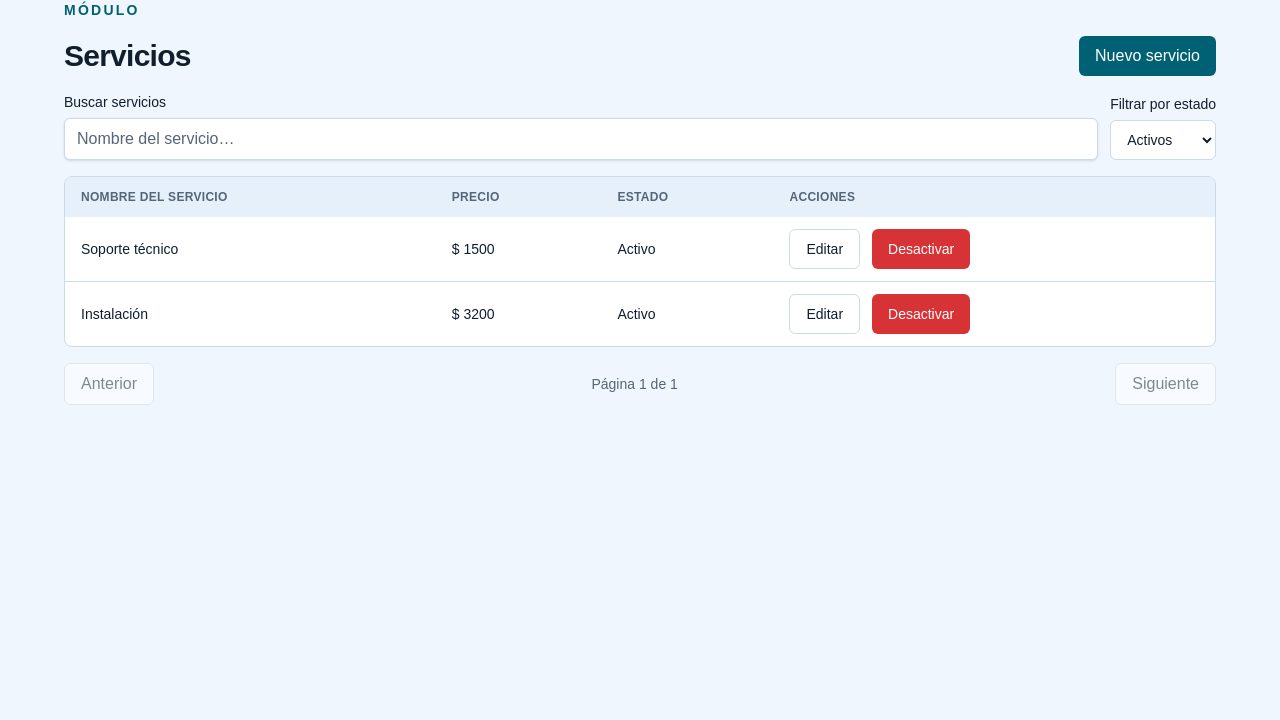
Test case: ServiciosPage › edits a service with its version and shows a toast
The width and height of the screenshot is (1280, 720).
Expected: the text "Soporte técnico" is shown, [65,217,436,282]
Click the button "Editar" in the row of "Soporte técnico": (825, 249) [790,229,860,269]
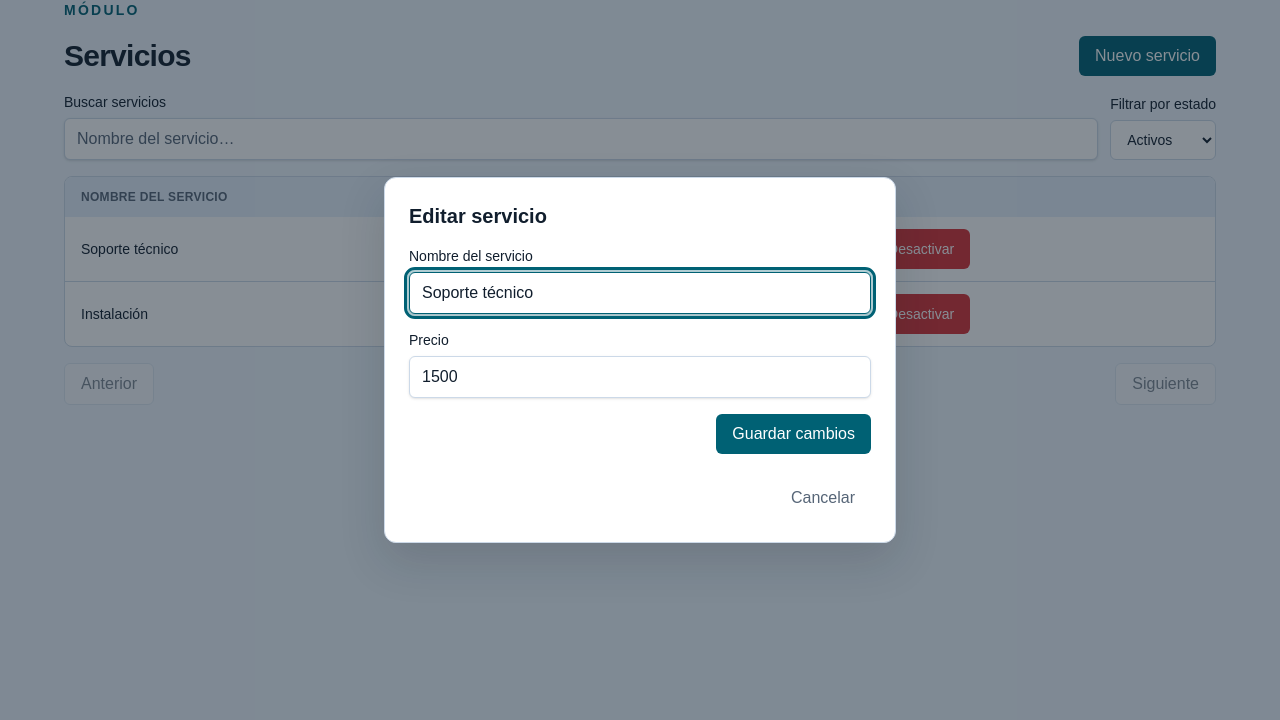
Expected: the field labelled "Nombre del servicio" holds "Soporte técnico"
Replace the text in the field labelled "Nombre del servicio" with "Soporte prioritario": (640, 293) [409,272,871,314]
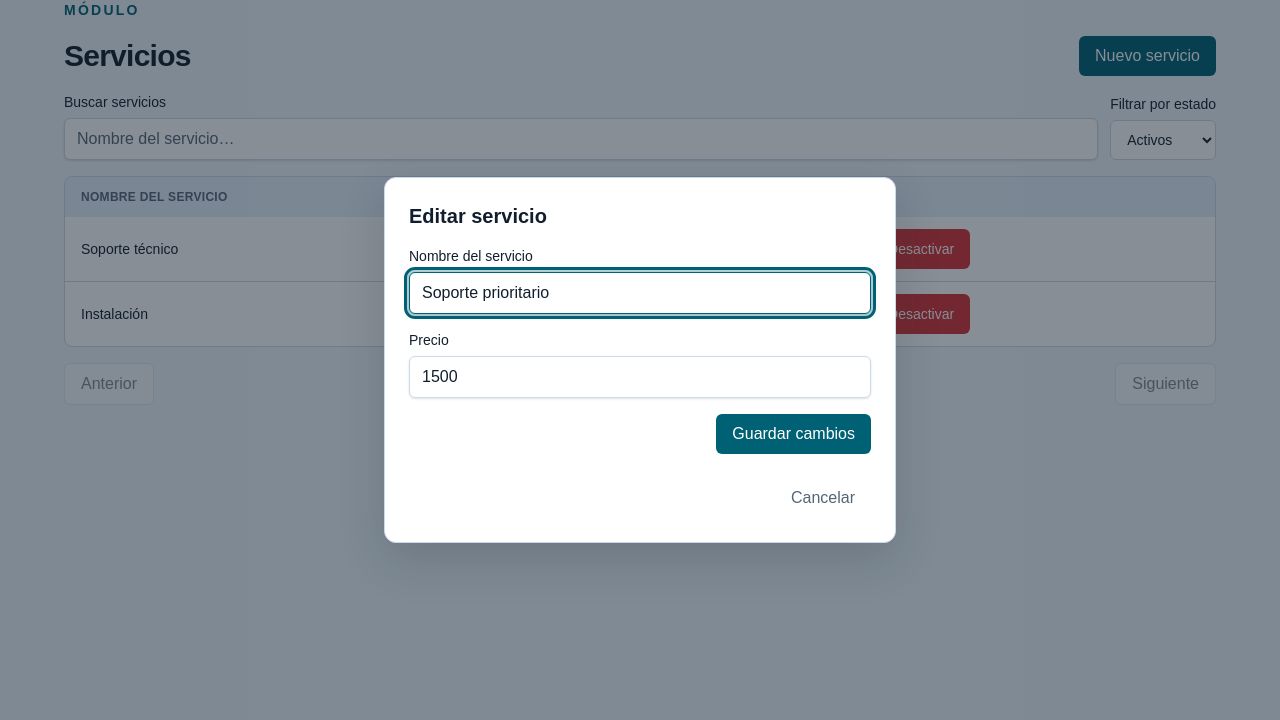
Click the button "Guardar cambios": (794, 434) [716,414,871,454]
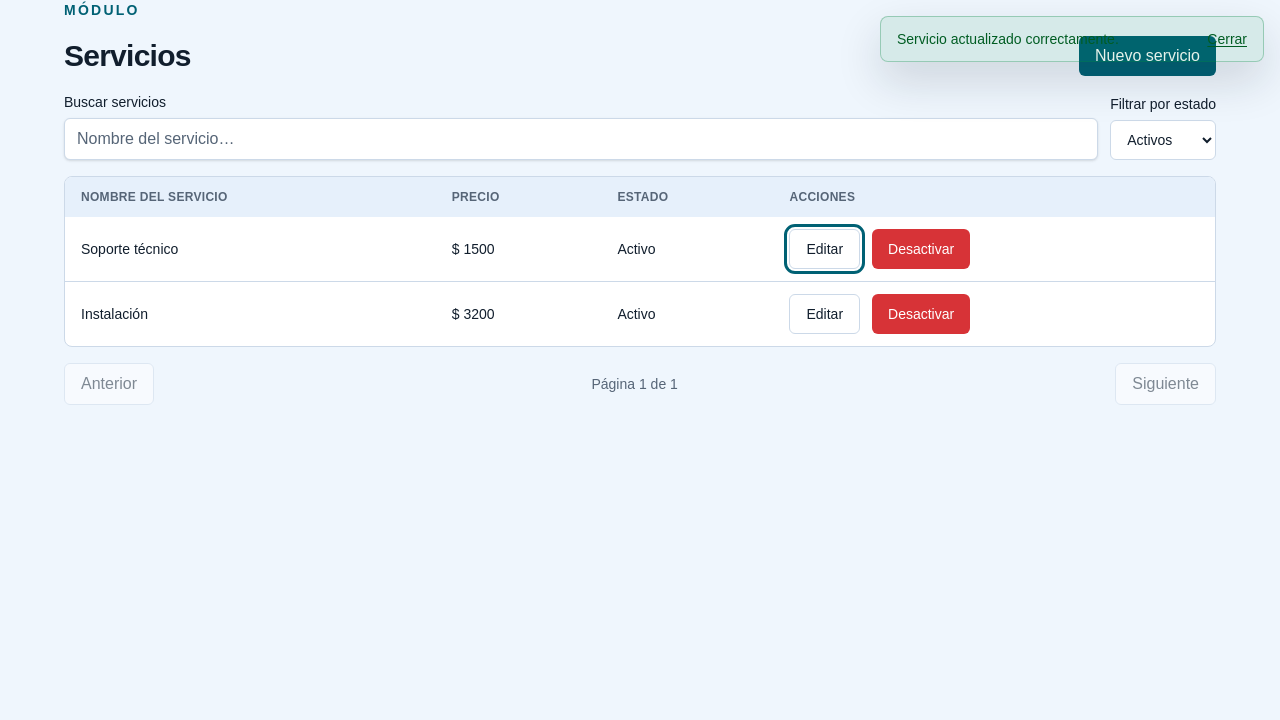
Expected: the message shows "Servicio actualizado correctamente.", [897,31,1119,47]
